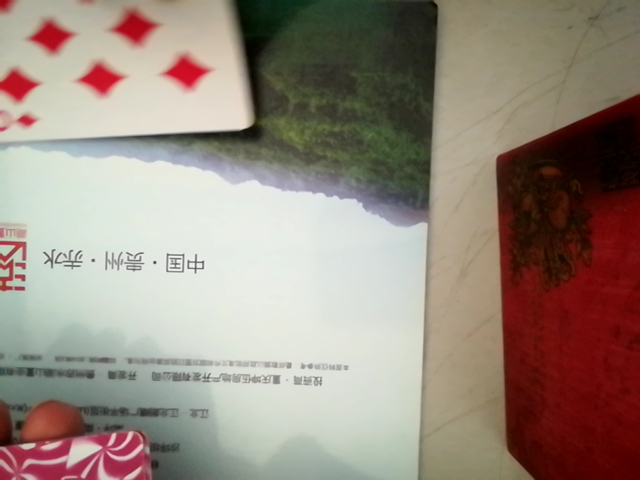fk 8: (0, 2, 256, 149)
